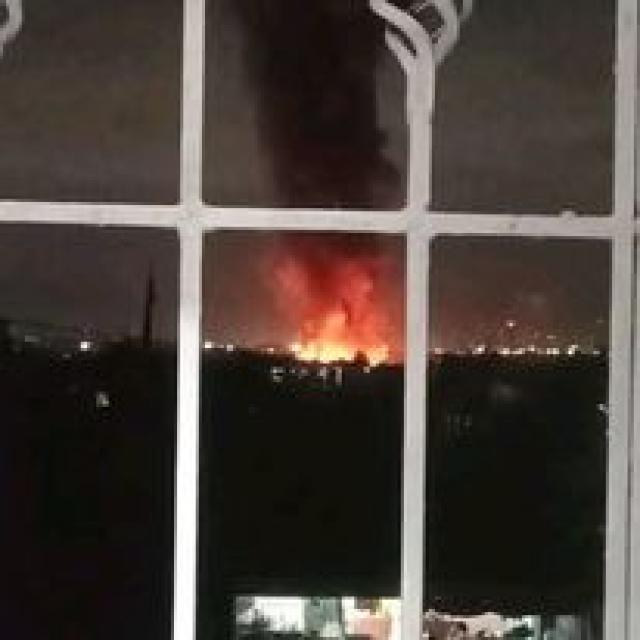Fire: (270, 270, 402, 366)
